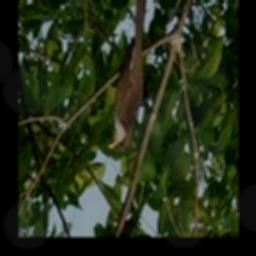Cuckoo: (107, 0, 147, 151)
